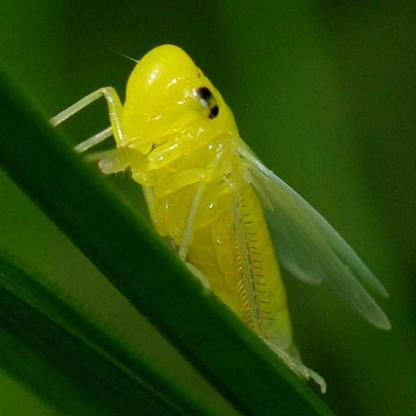Green-Leafhopper: (62, 32, 399, 399)
